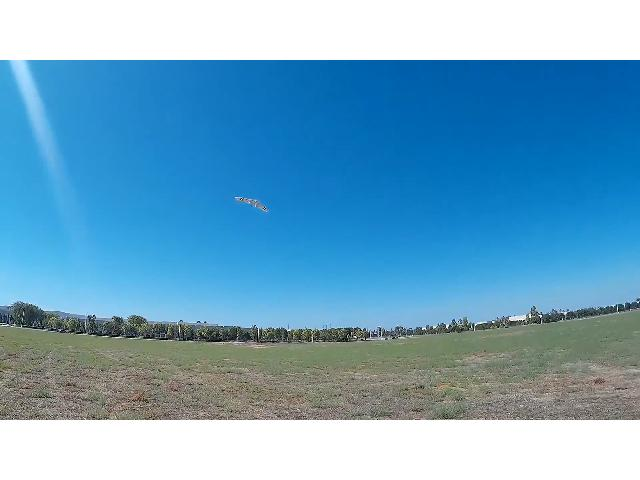Anti-Drone: (235, 196, 269, 212)
